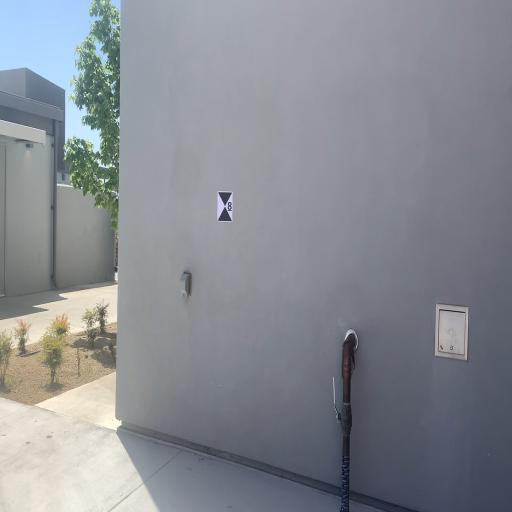target8: (216, 192, 234, 222)
